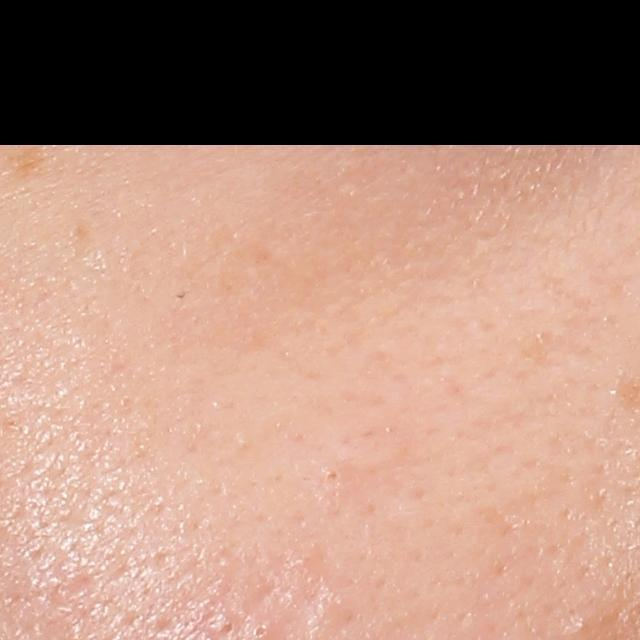comedo: (566, 613, 594, 639), (215, 621, 239, 639), (322, 468, 343, 485)
melasma: (4, 143, 58, 182)
